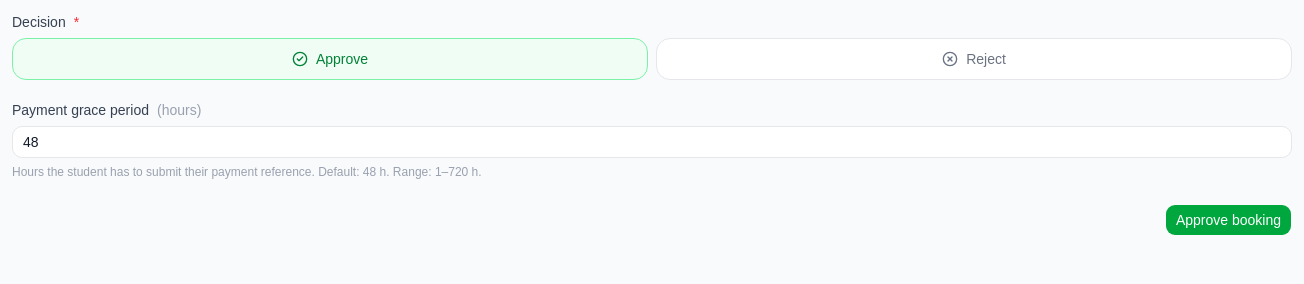
Test: ActionBookingForm › clears the reason validation error when switching back to approve
Click the button "Reject" at [974, 59], box 656,38 -> 1292,80
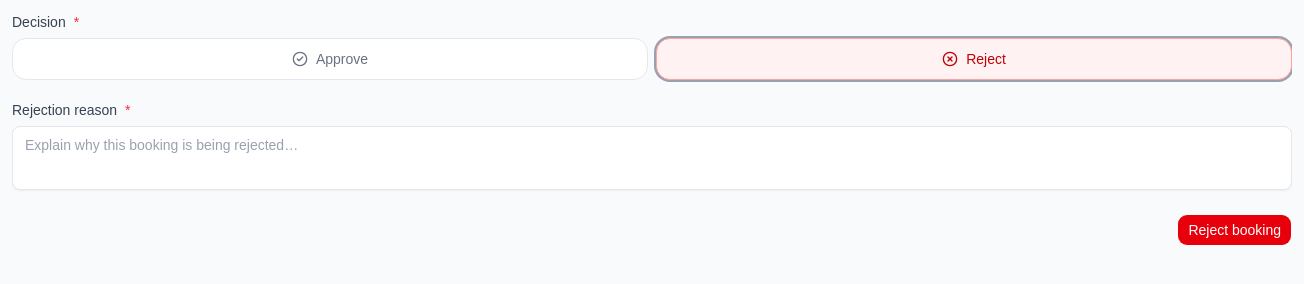
Click the button "Reject booking" at [1235, 230], box 1177,214 -> 1292,246
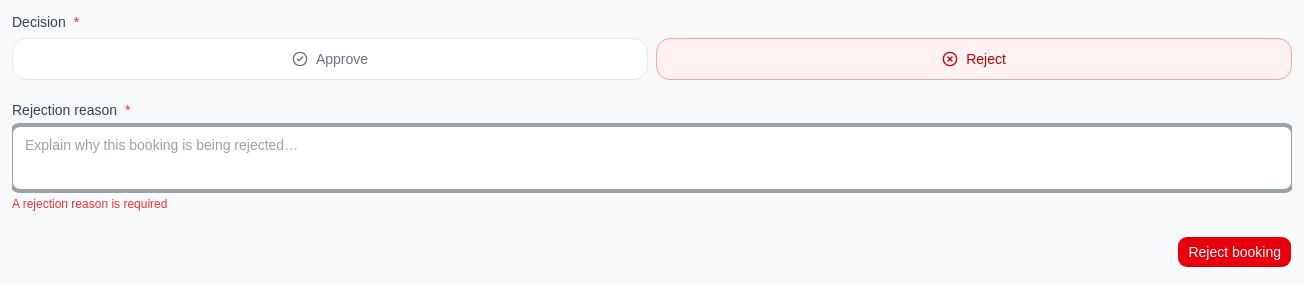
expect the text "A rejection reason is required" is shown: met, box 12,197 -> 167,211
Click the button "Approve" at [330, 59], box 12,38 -> 648,80
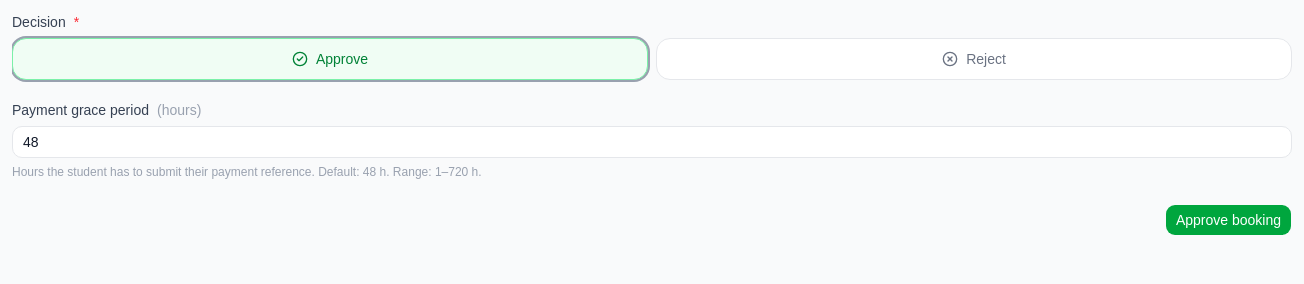
expect the text "rejection reason is required" is gone: met
